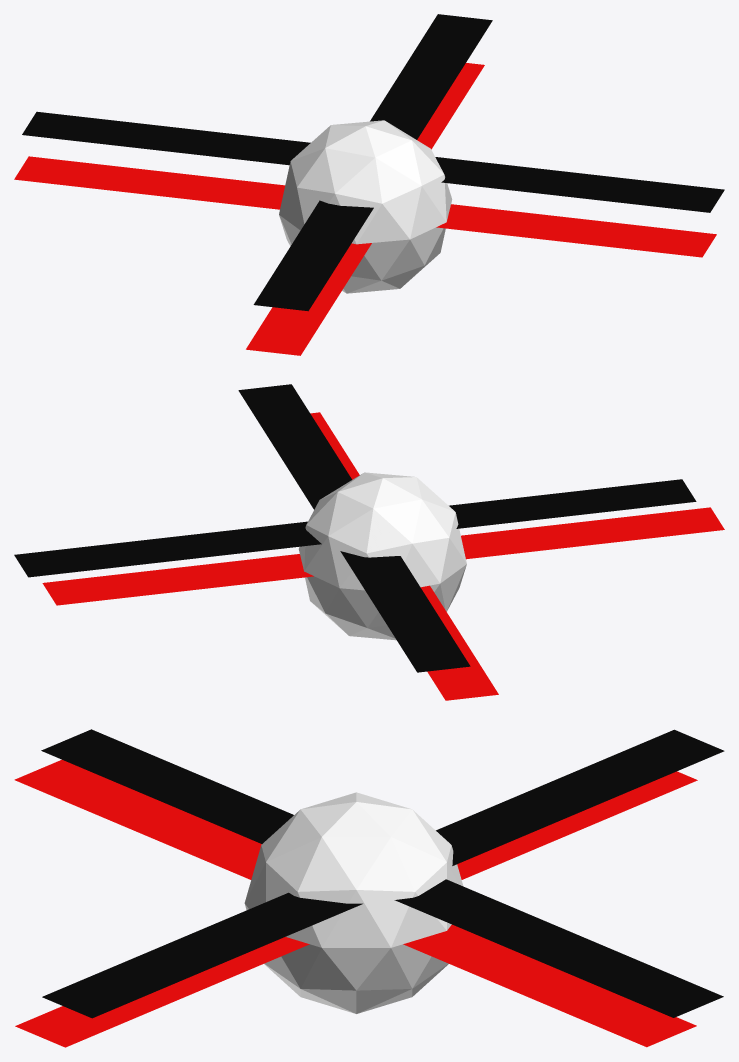
The model's file is out-of-bounds.glb.
3 renders of one model, top to bottom at view 1: azimuth 30°, elevation 25°; view 2: azimuth 150°, elevation 25°; view 3: azimuth 270°, elevation 25°, orthographic. The views are drawn at different scales.
Visible parts, largest first — view 1: out-of-bounds; view 2: out-of-bounds; view 3: out-of-bounds.
Part boxes in pixels (x1,y1,x2,y2): out-of-bounds: (14,14,724,355); out-of-bounds: (14,384,724,700); out-of-bounds: (14,729,724,1047).
Bounding box in the file's own units: 0.7945 × 0.25 × 0.7945.
1 material, 1 textured.
